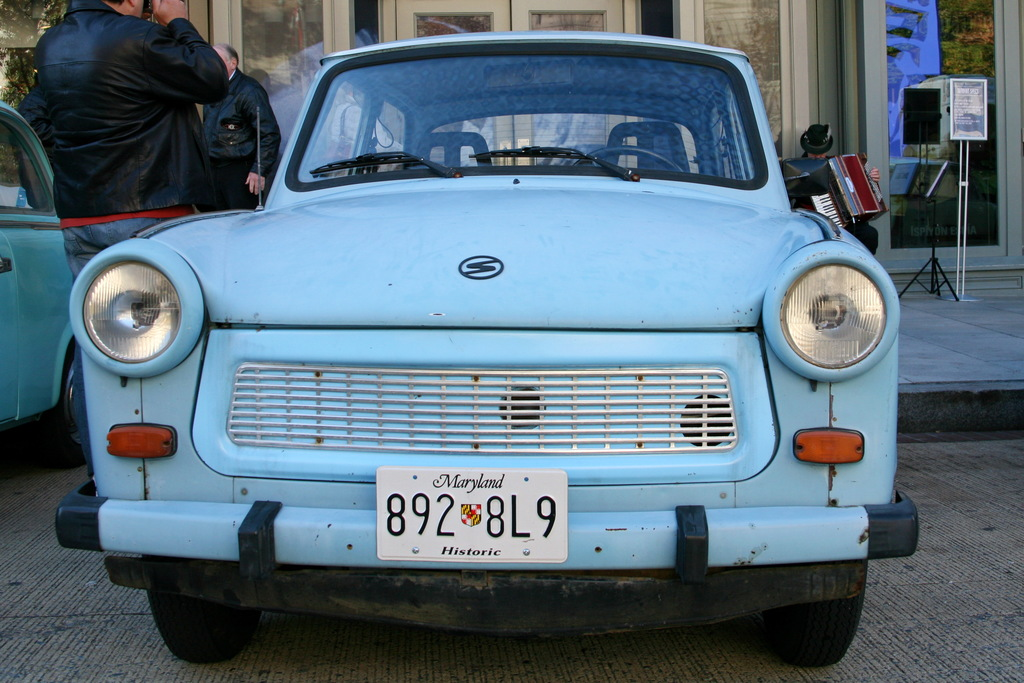mobil: (75, 32, 923, 665)
